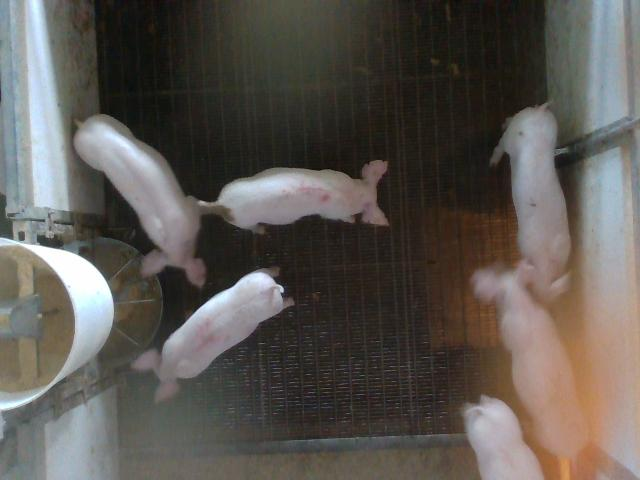pig-4: (134, 269, 294, 402)
pig-5: (205, 160, 388, 233)
